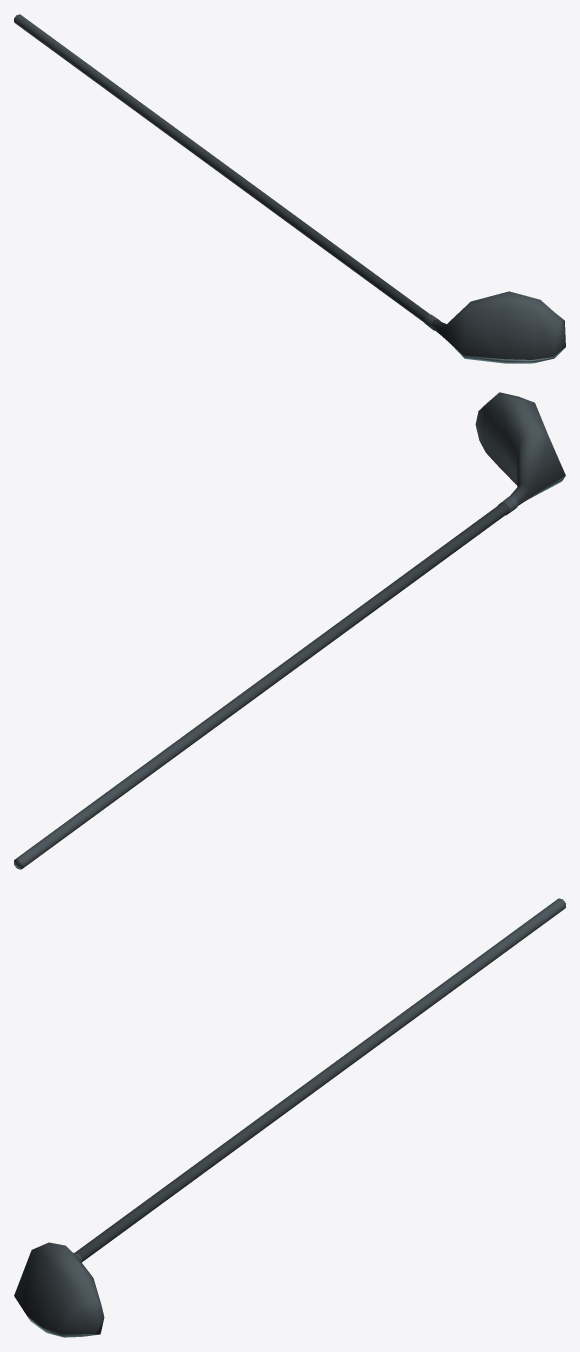
The model's file is human-sports-golf-club_v2.glb.
3 views of the same model, one above another, from view 1: azimuth 30°, elevation 25°; view 2: azimuth 150°, elevation 25°; view 3: azimuth 330°, elevation 25° (orthographic). The views are drawn at different scales.
Visible parts, largest first — view 1: Golf Club_v2; view 2: Golf Club_v2; view 3: Golf Club_v2.
Part boxes in pixels (box(x1,y1,x2,y2)): Golf Club_v2: box(14, 14, 565, 363); Golf Club_v2: box(14, 392, 565, 869); Golf Club_v2: box(14, 898, 565, 1337).
Bounding box in the file's own units: 0.1071 × 0.0685 × 1.
